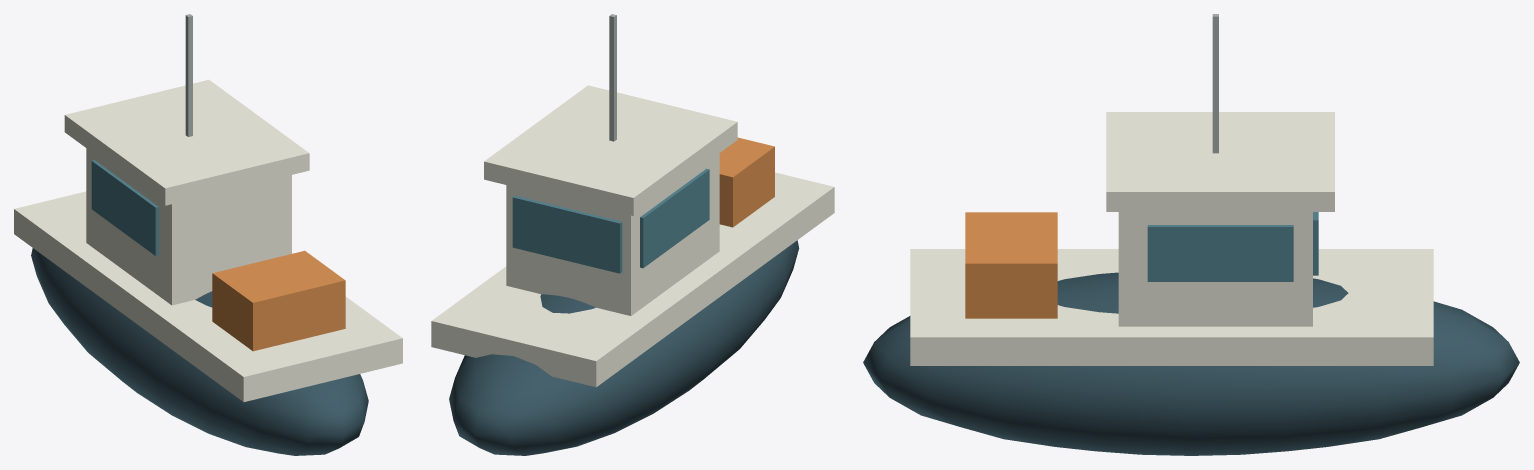
Rendered from boat.glb.
3 views of the same model, side by side, from view 1: azimuth 30°, elevation 25°; view 2: azimuth 150°, elevation 25°; view 3: azimuth 270°, elevation 25° (orthographic). The views are drawn at different scales.
Visible parts, largest first — view 1: Deck, Displacement hull, Cabin roof, Wheelhouse, Aft orange equipment, Side glazing, Antenna; view 2: Displacement hull, Deck, Cabin roof, Wheelhouse, Front glazing, Aft orange equipment, Side glazing, Antenna; view 3: Displacement hull, Deck, Cabin roof, Wheelhouse, Aft orange equipment, Side glazing.001, Antenna.
Part boxes in pixels (x1,y1,x2,y2): Deck: [14, 191, 402, 401]; Displacement hull: [31, 248, 368, 455]; Cabin roof: [64, 79, 309, 205]; Wheelhouse: [86, 148, 291, 305]; Aft orange equipment: [212, 250, 345, 351]; Side glazing: [91, 160, 158, 255]; Antenna: [185, 14, 192, 136]; Displacement hull: [449, 240, 799, 455]; Deck: [431, 172, 834, 387]; Cabin roof: [484, 85, 737, 215]; Wheelhouse: [506, 153, 719, 315]; Front glazing: [512, 195, 622, 273]; Aft orange equipment: [719, 137, 774, 227]; Side glazing: [640, 168, 709, 268]; Antenna: [609, 14, 616, 141]; Displacement hull: [863, 272, 1519, 455]; Deck: [910, 249, 1433, 365]; Cabin roof: [1106, 112, 1334, 211]; Wheelhouse: [1118, 212, 1312, 326]; Aft orange equipment: [965, 212, 1057, 318]; Side glazing.001: [1147, 225, 1293, 281]; Antenna: [1212, 14, 1218, 153].
Bounding box in the file's own units: 0.96 × 1.94 × 2.7.
